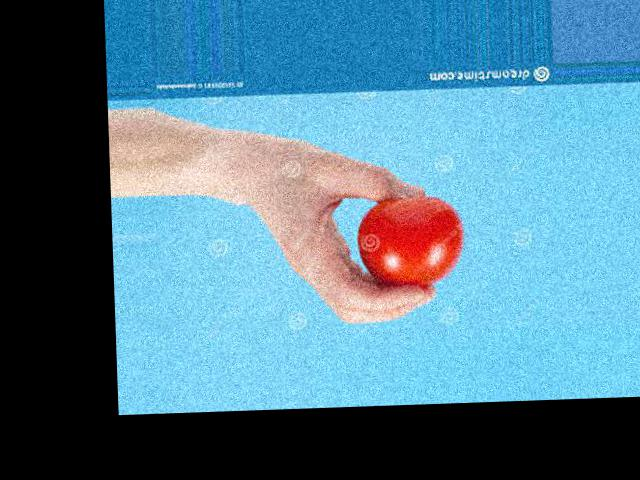tomato: (357, 195, 464, 290)
